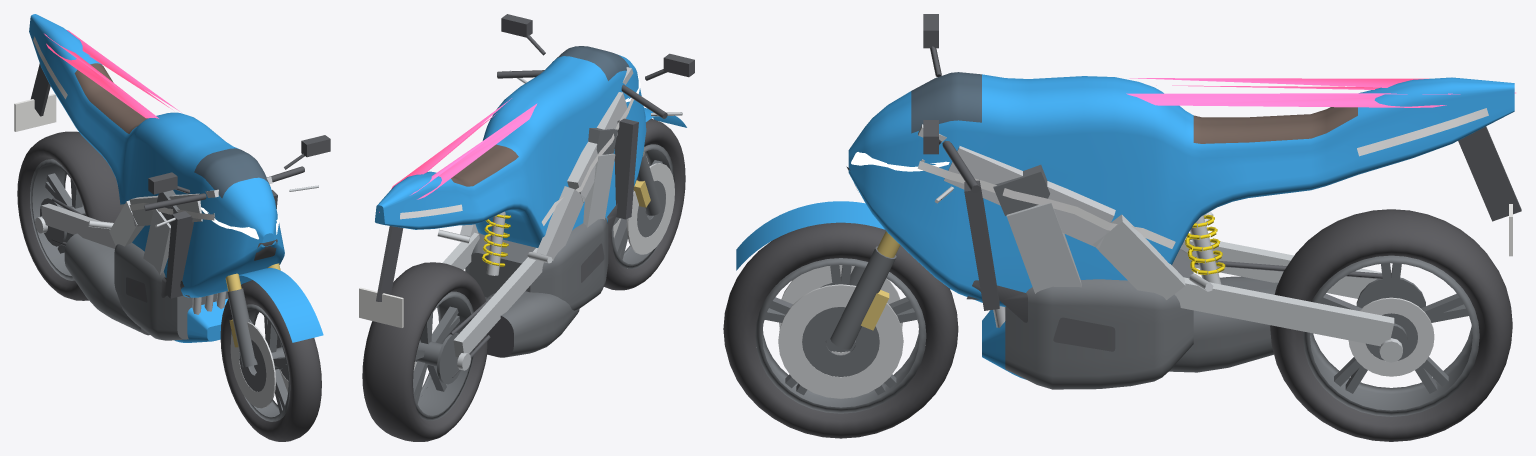
Rendered from motorcycle-sport.glb.
3 renders of one model, left to right at view 1: azimuth 30°, elevation 25°; view 2: azimuth 150°, elevation 25°; view 3: azimuth 270°, elevation 25°, orthographic. The views are drawn at different scales.
Parts seen in each view (by area): view 1: motorcycle-sport; view 2: motorcycle-sport; view 3: motorcycle-sport.
Part boxes in pixels (<box>): motorcycle-sport: <box>14,14,330,441</box>; motorcycle-sport: <box>359,14,694,441</box>; motorcycle-sport: <box>723,14,1521,441</box>.
Size of the model in its own units: 0.74 by 1.01 by 2.04.
